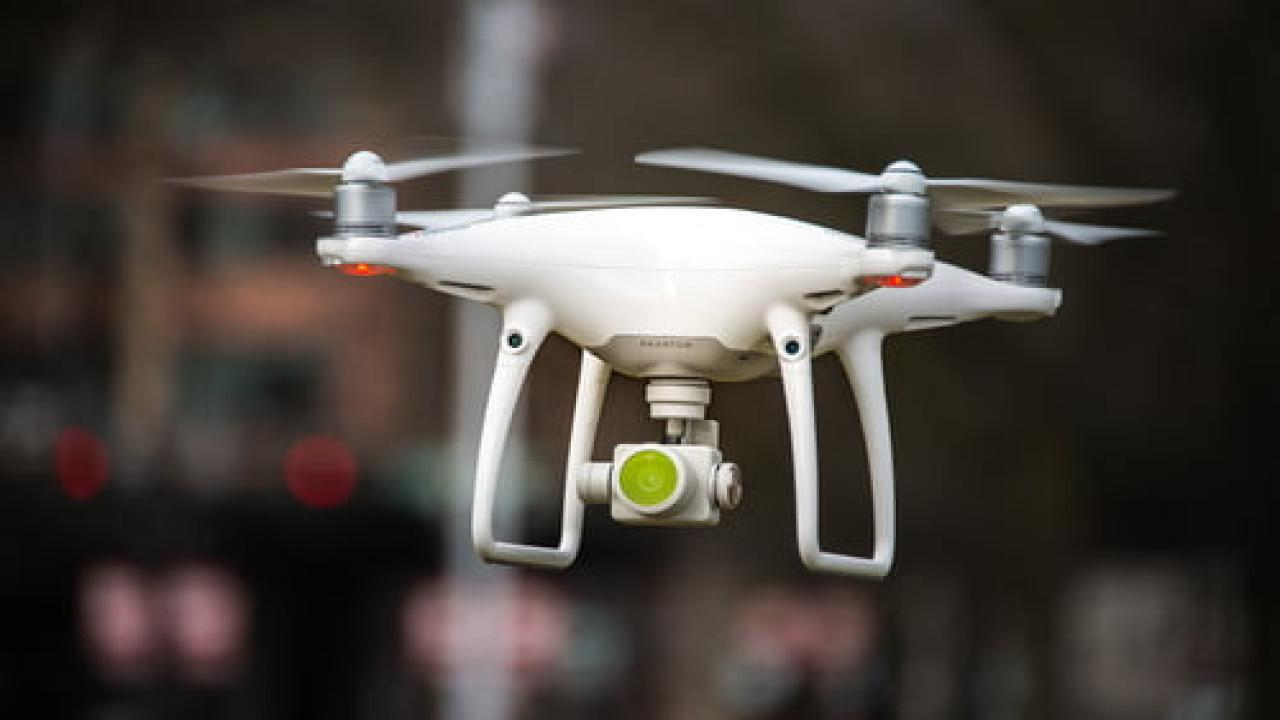Drone: (146, 136, 1188, 585)
